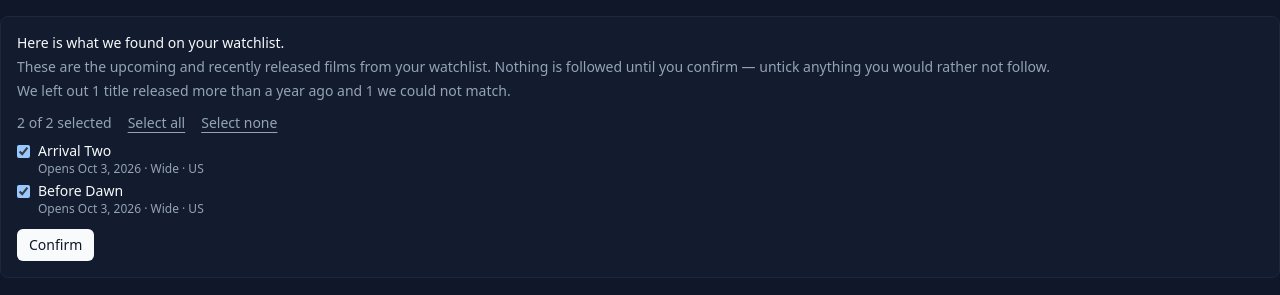
Test: ImportProgress › a job awaiting review (EF-22) › counts the ticked rows against the candidates only
This screenshot has width=1280, height=295.
Expected: the text "2 of 2 selected" is shown, [17,113,112,133]
Click the checkbox labelled "Arrival Two Opens Oct 3, 2026 · Wide · US" at (24, 152), box [17,145,30,158]
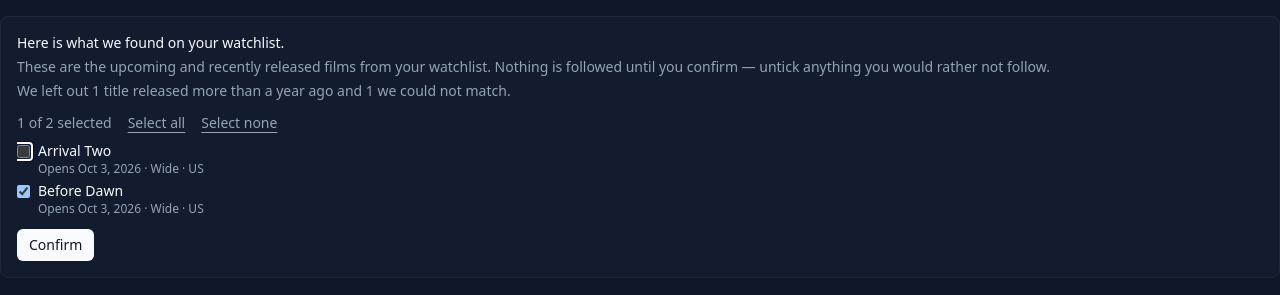
Expected: the text "1 of 2 selected" is shown, [17,113,112,133]
